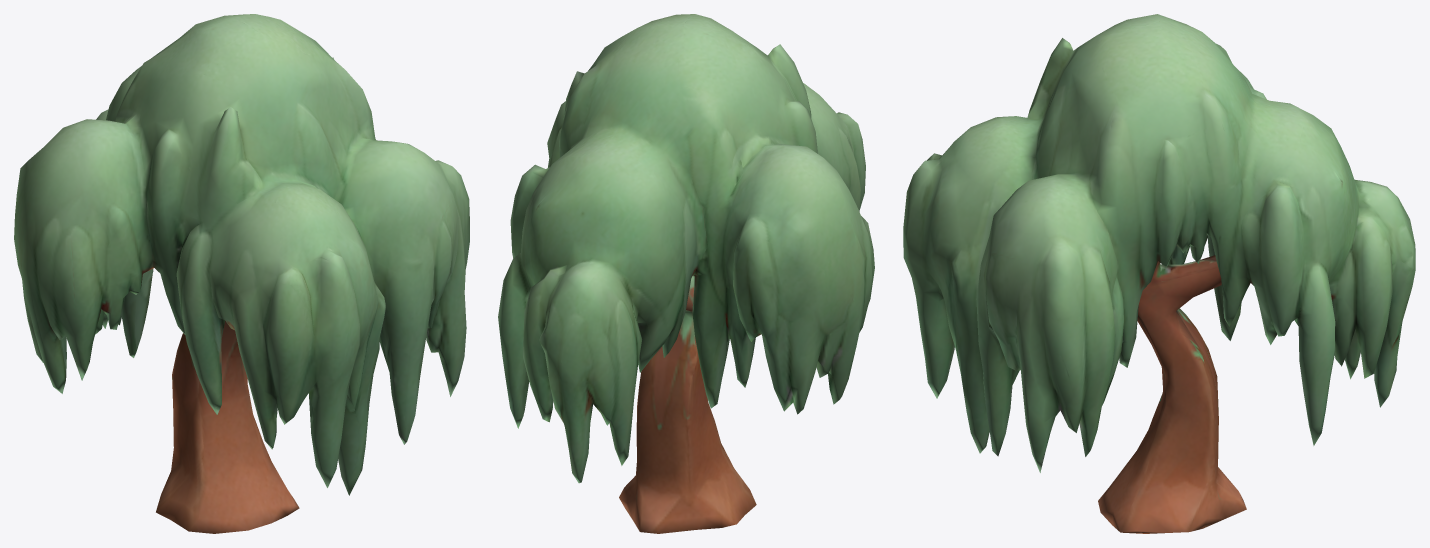
File: Prop_WillowTree.glb
3 renders of one model, left to right at view 1: azimuth 30°, elevation 25°; view 2: azimuth 150°, elevation 25°; view 3: azimuth 270°, elevation 25°, orthographic. The views are drawn at different scales.
Parts seen in each view (by area): view 1: input; view 2: input; view 3: input.
Boxes of the visible parts, x1=… form: input: x1=14, y1=14, x2=469, y2=533; input: x1=498, y1=14, x2=874, y2=533; input: x1=903, y1=14, x2=1415, y2=533.
Size of the model in its own units: 0.8204 by 1 by 0.9525.
1 material, 1 textured.
